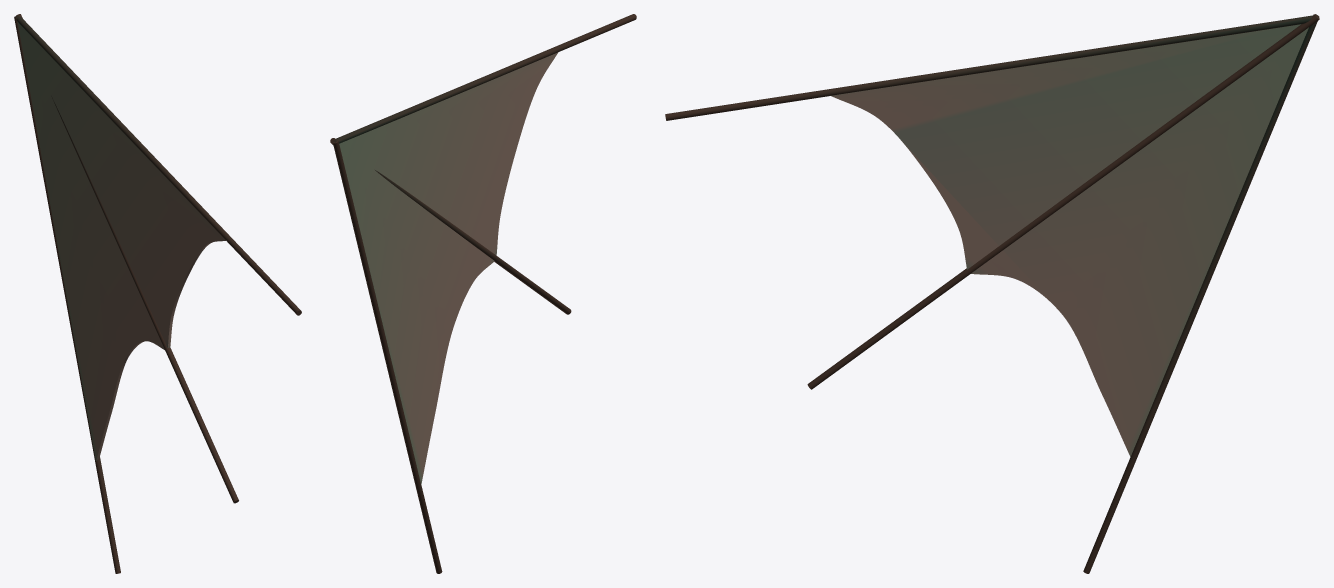
3 views of the same model, side by side, from view 1: azimuth 30°, elevation 25°; view 2: azimuth 150°, elevation 25°; view 3: azimuth 270°, elevation 25° (orthographic). The views are drawn at different scales.
Parts seen in each view (by area): view 1: cloth, upper_spar, middle_spar, descending_spar; view 2: cloth, descending_spar, upper_spar, middle_spar; view 3: cloth, upper_spar, middle_spar, descending_spar.
Boxes of the visible parts, x1=… form: cloth: x1=17, y1=22, x2=225, y2=461; upper_spar: x1=16, y1=16, x2=301, y2=315; middle_spar: x1=15, y1=14, x2=238, y2=503; descending_spar: x1=14, y1=16, x2=120, y2=573; cloth: x1=339, y1=52, x2=557, y2=484; descending_spar: x1=332, y1=139, x2=442, y2=573; upper_spar: x1=332, y1=14, x2=636, y2=145; middle_spar: x1=330, y1=138, x2=571, y2=314; cloth: x1=830, y1=24, x2=1308, y2=456; upper_spar: x1=665, y1=15, x2=1317, y2=120; middle_spar: x1=807, y1=14, x2=1319, y2=389; descending_spar: x1=1083, y1=14, x2=1319, y2=573.
Bounding box in the file's own units: 0.0501 × 2.84 × 3.02.
